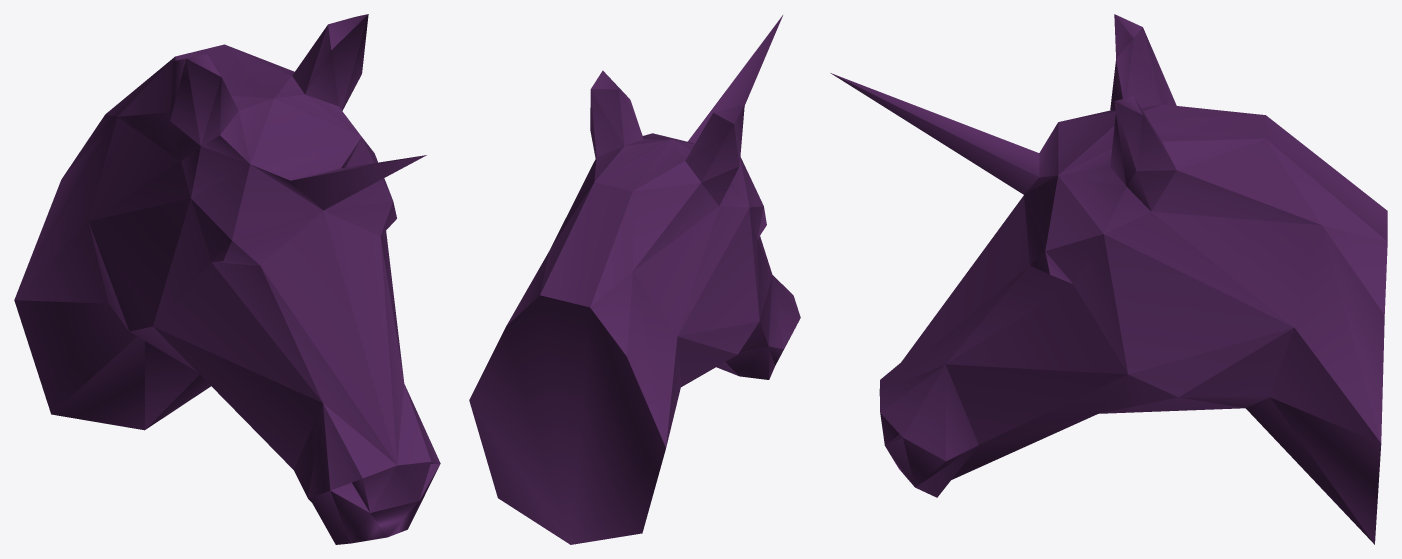
Rendered from unicornhead.fbx.
3 renders of one model, left to right at view 1: azimuth 30°, elevation 25°; view 2: azimuth 150°, elevation 25°; view 3: azimuth 270°, elevation 25°, orthographic. The views are drawn at different scales.
Visible parts, largest first — view 1: mmGroup0; view 2: mmGroup0; view 3: mmGroup0.
Boxes of the visible parts, <box> form: mmGroup0: <box>14,14,440,544</box>; mmGroup0: <box>469,15,800,544</box>; mmGroup0: <box>830,14,1387,544</box>.
Size of the model in its own units: 780 by 1445 by 1523.
